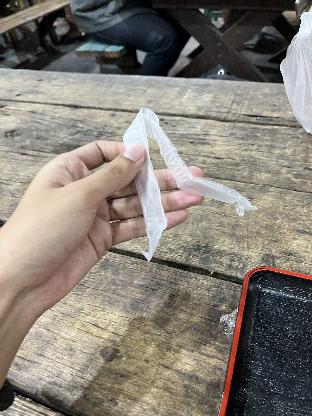Others: (116, 109, 258, 257)
